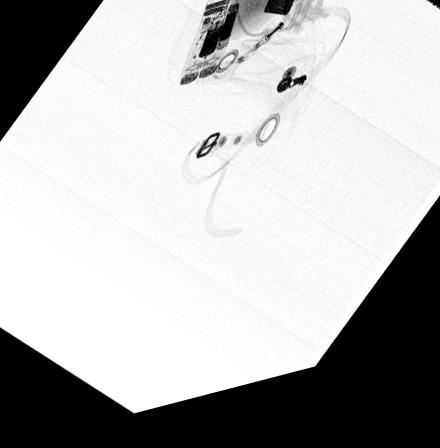Lighter: (262, 0, 300, 29)
